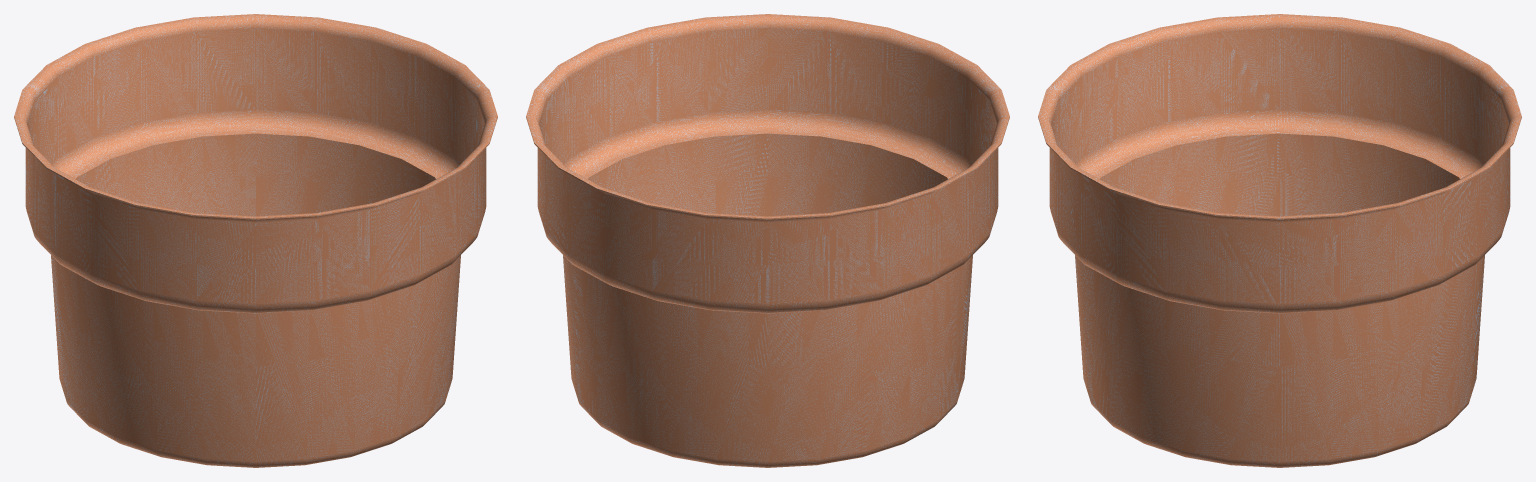
File: newPot.fbx
The picture shows the model from 3 angles, left to right: view 1: azimuth 30°, elevation 25°; view 2: azimuth 150°, elevation 25°; view 3: azimuth 270°, elevation 25°; orthographic projection.
Visible parts, largest first — view 1: ID21; view 2: ID21; view 3: ID21.
Part boxes in pixels (x1,y1,x2,y2): ID21: [14, 14, 497, 467]; ID21: [526, 14, 1009, 467]; ID21: [1038, 14, 1521, 467].
Size of the model in its own units: 1.63 by 1.04 by 1.63.
